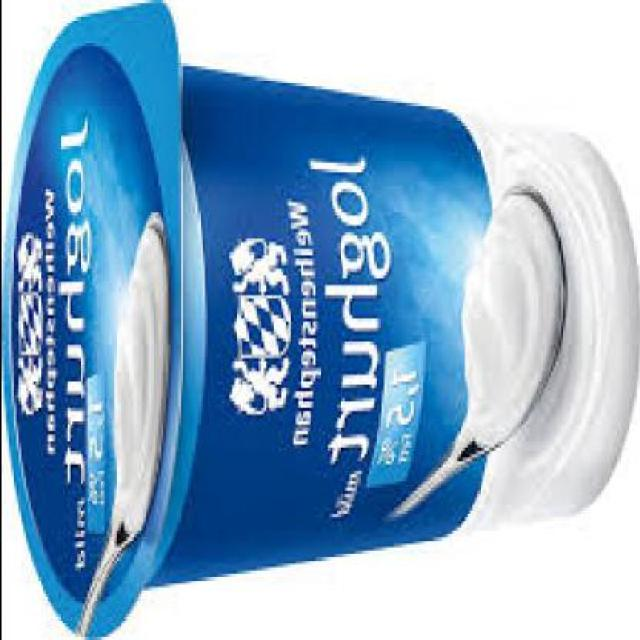PLASTIC: (1, 0, 632, 638)
